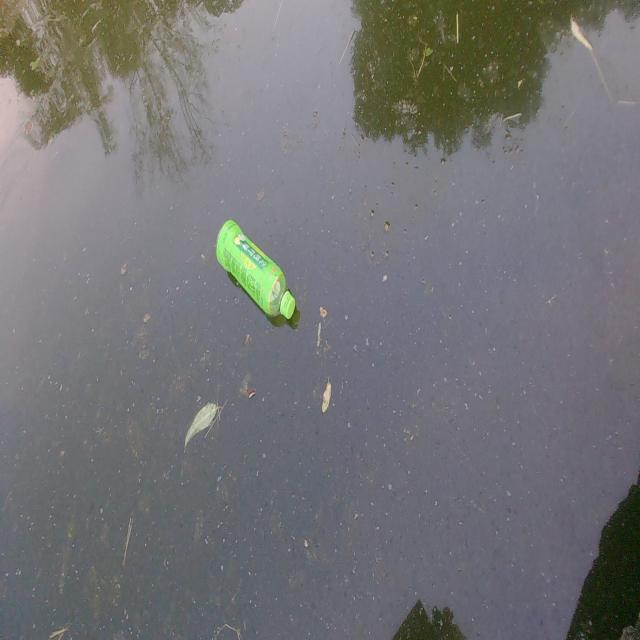Bottle: (208, 212, 297, 326)
